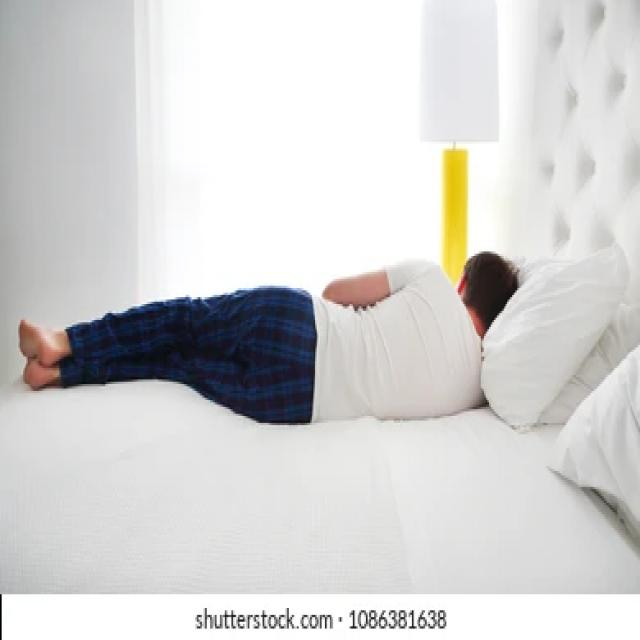people: (13, 230, 532, 470)
